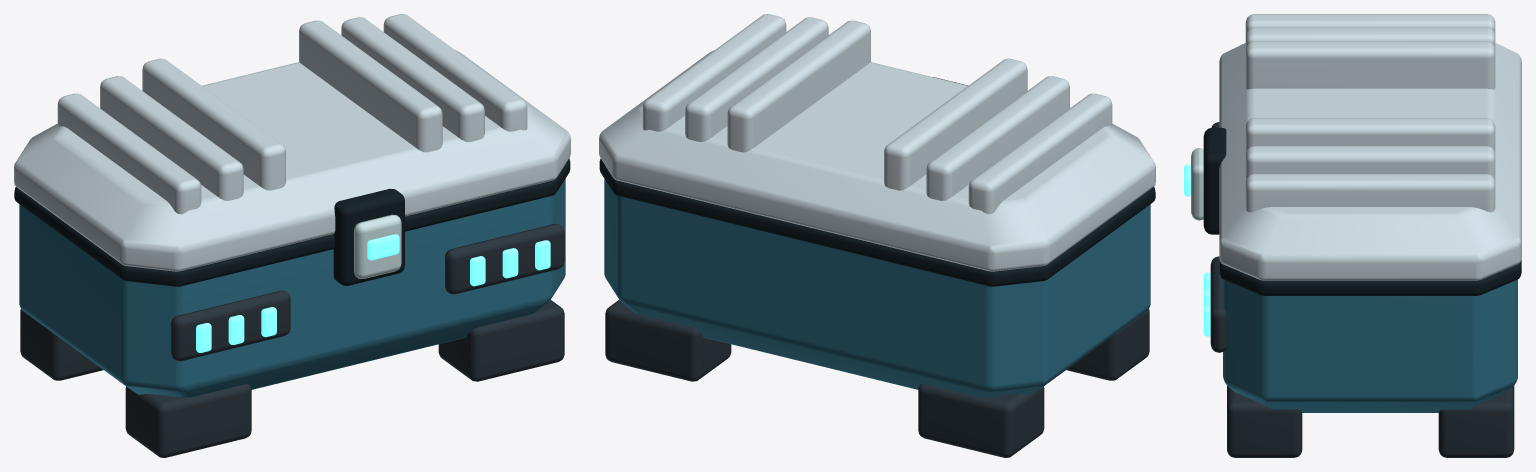
File: salvage_cache.glb
The picture shows the model from 3 angles, left to right: view 1: azimuth 30°, elevation 25°; view 2: azimuth 150°, elevation 25°; view 3: azimuth 270°, elevation 25°; orthographic projection.
Parts seen in each view (by area): view 1: Cryogenic sample carrier; view 2: Cryogenic sample carrier; view 3: Cryogenic sample carrier.
Boxes of the visible parts, x1=… form: Cryogenic sample carrier: x1=14, y1=14, x2=570, y2=457; Cryogenic sample carrier: x1=599, y1=14, x2=1155, y2=457; Cryogenic sample carrier: x1=1184, y1=14, x2=1521, y2=457.
Bounding box in the file's own units: 1.38 × 0.81 × 0.893.
